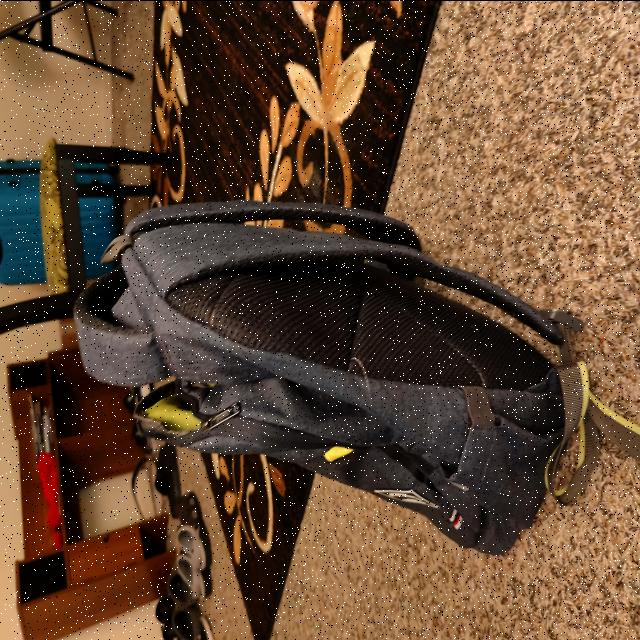bag: (66, 223, 556, 539)
